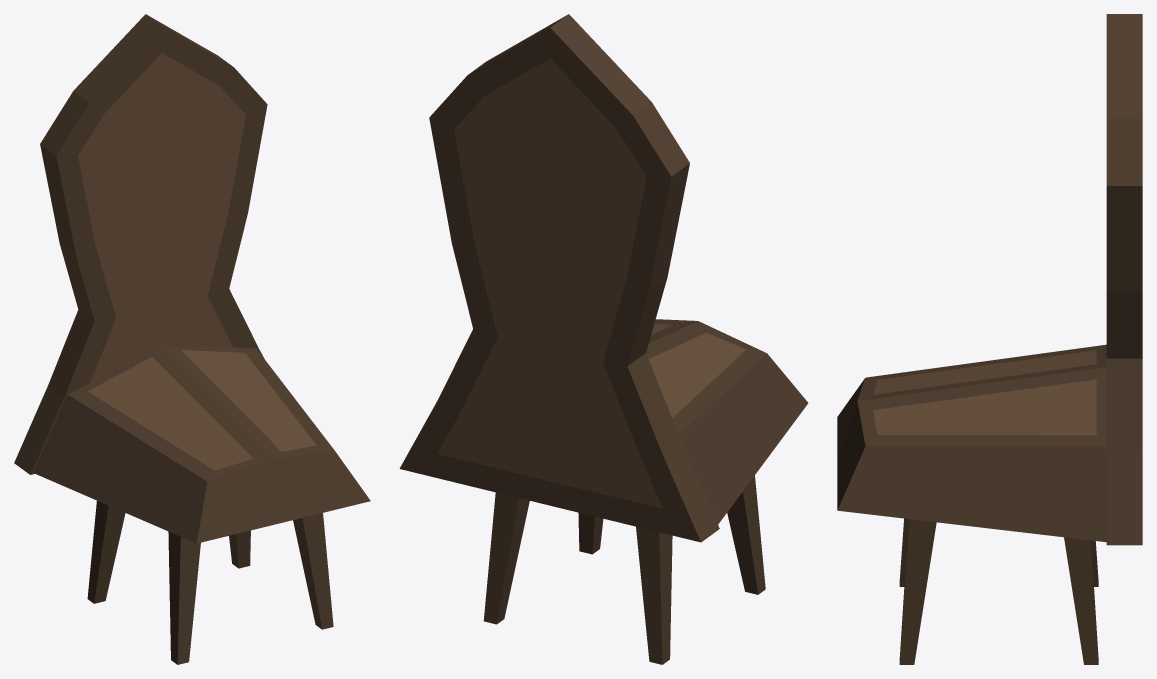
Rendered from Chair_5_Brown.fbx.
3 views of the same model, side by side, from view 1: azimuth 30°, elevation 25°; view 2: azimuth 150°, elevation 25°; view 3: azimuth 270°, elevation 25° (orthographic). The views are drawn at different scales.
Parts seen in each view (by area): view 1: Chair_5_Brown_Part_1, Chair_5_Brown_Part_2; view 2: Chair_5_Brown_Part_1, Chair_5_Brown_Part_2; view 3: Chair_5_Brown_Part_1, Chair_5_Brown_Part_2.
Part boxes in pixels (<box>): Chair_5_Brown_Part_1: <box>14,14,370,664</box>; Chair_5_Brown_Part_2: <box>78,53,316,470</box>; Chair_5_Brown_Part_1: <box>399,14,808,664</box>; Chair_5_Brown_Part_2: <box>437,58,746,508</box>; Chair_5_Brown_Part_1: <box>837,14,1142,664</box>; Chair_5_Brown_Part_2: <box>873,350,1096,435</box>.
Size of the model in its own units: 91.05 by 182 by 82.76.
